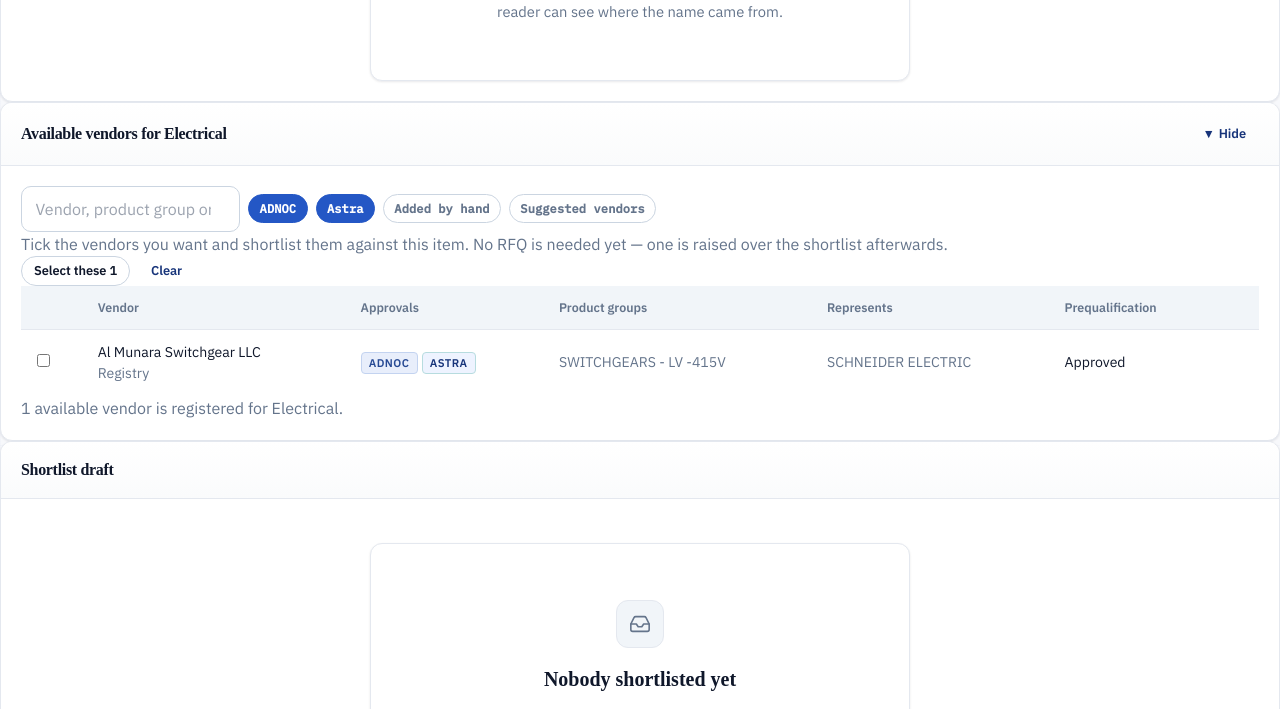
Test: ItemDetail › ticks a vendor by id, not by row
(page scrolled)
Click the checkbox named "select al munara".
click(44, 361)  # box [37, 354, 50, 367]
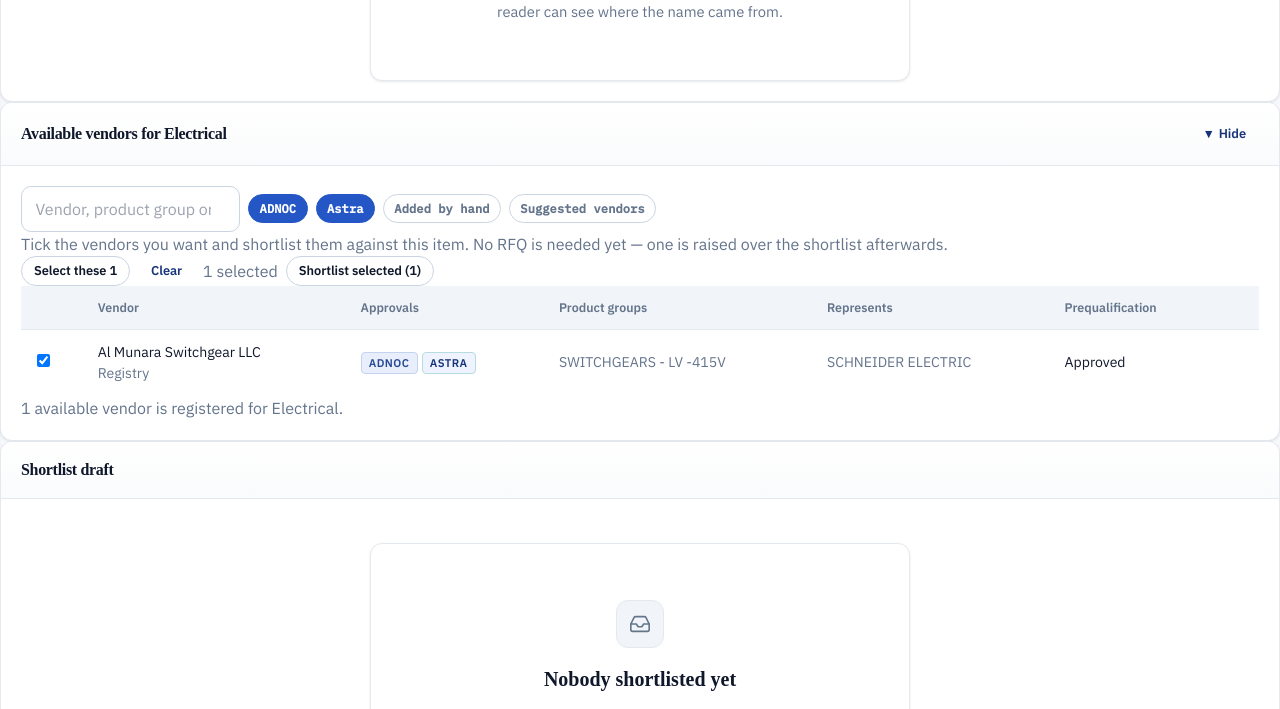
Now the text "1 selected" is shown, box [203, 259, 278, 283]
